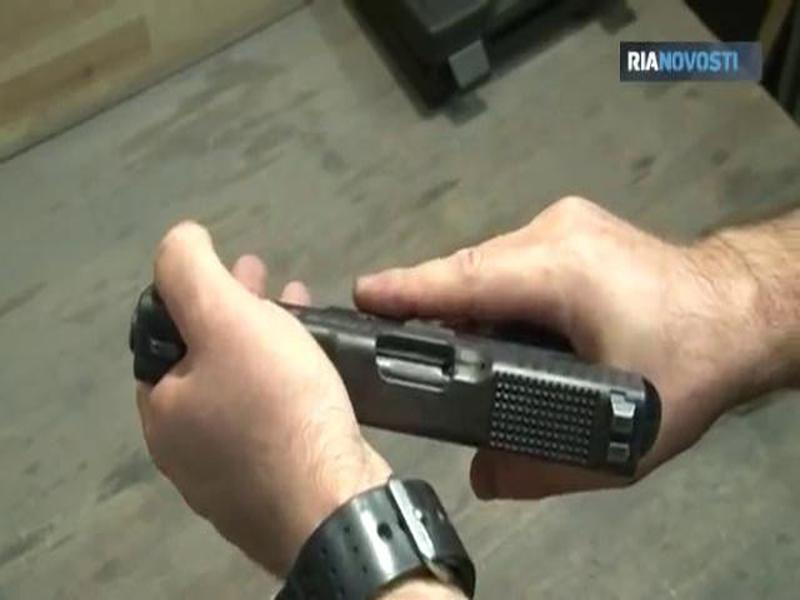Pistola: (68, 213, 723, 528)
